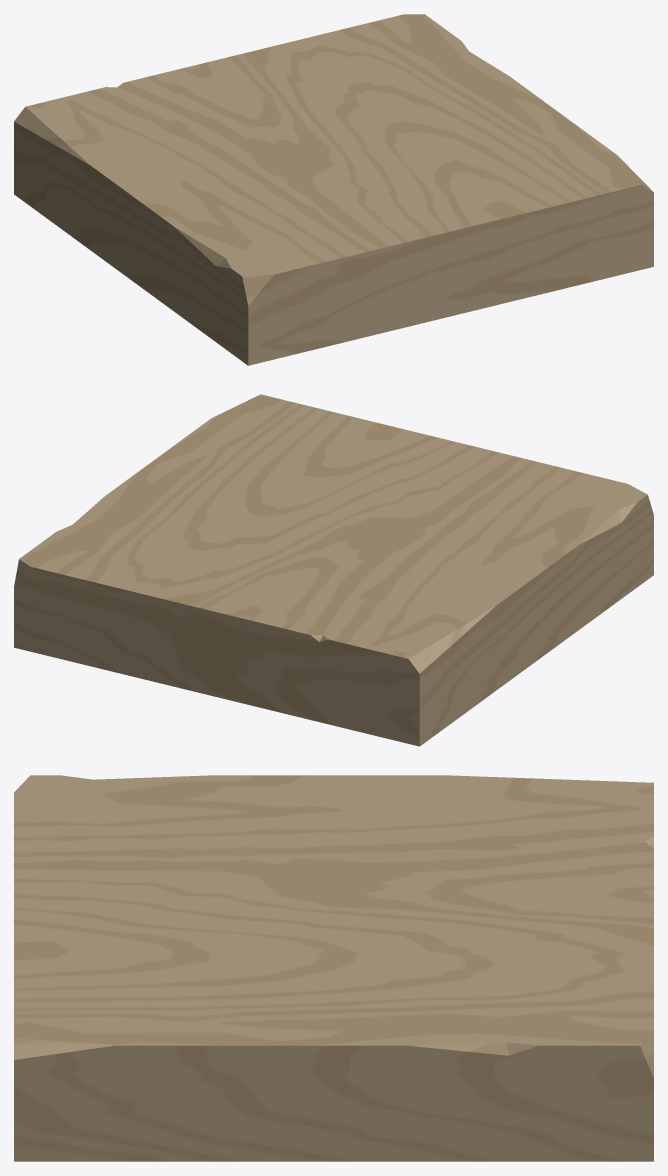
Rendered from SM_Prop_Wood_Plinth_01.fbx.
3 renders of one model, top to bottom at view 1: azimuth 30°, elevation 25°; view 2: azimuth 150°, elevation 25°; view 3: azimuth 270°, elevation 25°, orthographic. The views are drawn at different scales.
Parts seen in each view (by area): view 1: SM_Prop_Wood_Plinth_01; view 2: SM_Prop_Wood_Plinth_01; view 3: SM_Prop_Wood_Plinth_01.
Boxes of the visible parts, bbox=[...] form: SM_Prop_Wood_Plinth_01: bbox=[14, 14, 653, 365]; SM_Prop_Wood_Plinth_01: bbox=[14, 394, 653, 746]; SM_Prop_Wood_Plinth_01: bbox=[14, 775, 653, 1161].
Bounding box in the file's own units: 200 × 40 × 200.
